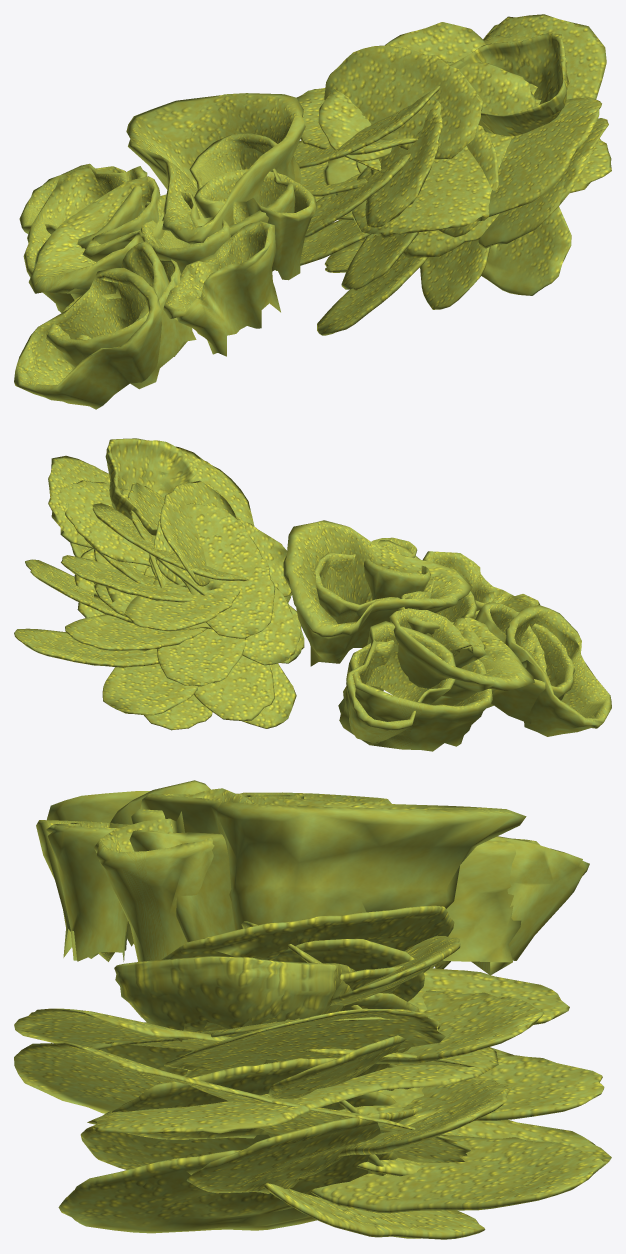
The model's file is plant_48.fbx.
3 renders of one model, top to bottom at view 1: azimuth 30°, elevation 25°; view 2: azimuth 150°, elevation 25°; view 3: azimuth 270°, elevation 25°, orthographic. The views are drawn at different scales.
Parts seen in each view (by area): view 1: AiShanHu_32, AiShanHu_30; view 2: AiShanHu_32, AiShanHu_30; view 3: AiShanHu_32, AiShanHu_30.
Part boxes in pixels (left/top/right/bottom): AiShanHu_32: left=275, top=14, right=611, bottom=335; AiShanHu_30: left=14, top=93, right=316, bottom=409; AiShanHu_32: left=14, top=438, right=304, bottom=730; AiShanHu_30: left=283, top=520, right=611, bottom=751; AiShanHu_32: left=14, top=905, right=611, bottom=1239; AiShanHu_30: left=36, top=780, right=589, bottom=974.
Bounding box in the file's own units: 20.99 × 8.67 × 11.51.
